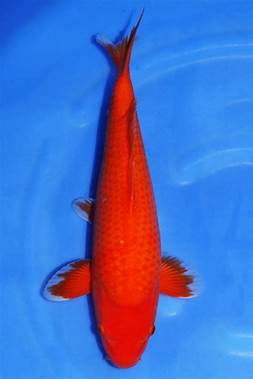red: (40, 6, 203, 369)
